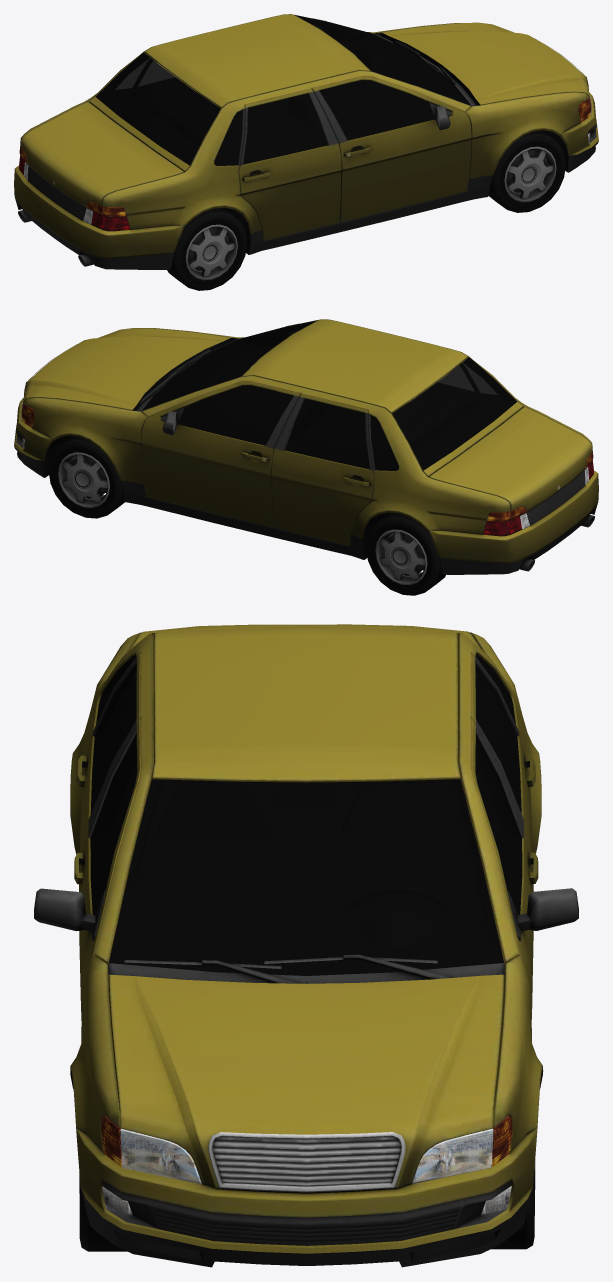
Rendered from sedan.glb.
The picture shows the model from 3 angles, top to bottom: view 1: azimuth 30°, elevation 25°; view 2: azimuth 150°, elevation 25°; view 3: azimuth 270°, elevation 25°; orthographic projection. The views are drawn at different scales.
Visible parts, largest first — view 1: body, wheel (×2); view 2: body, wheel (×2); view 3: body, wheel (×2).
Part boxes in pixels (x1,y1,x2,y2): body: [14, 14, 598, 269]; wheel (×2): [167, 130, 565, 290]; body: [14, 319, 598, 574]; wheel (×2): [48, 436, 445, 595]; body: [34, 624, 578, 1267]; wheel (×2): [79, 1160, 535, 1251].
Size of the model in its own units: 4.36 by 1.34 by 1.94.
Materials: 4 (3 with a texture image).
